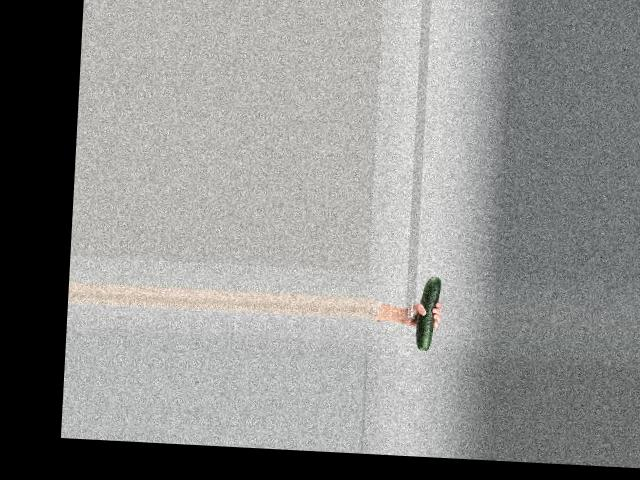cucumber: (415, 275, 441, 349)
